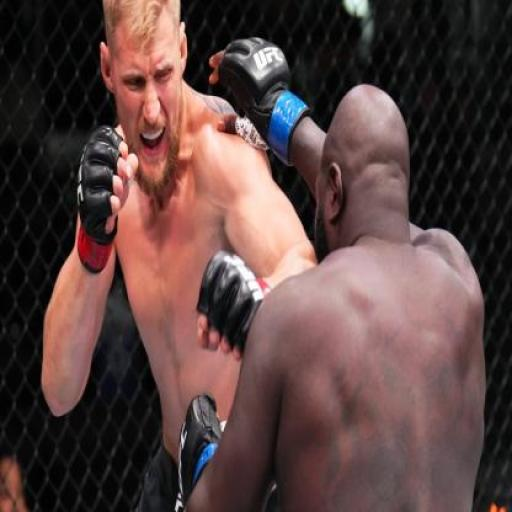Fighting: (41, 2, 485, 512)
